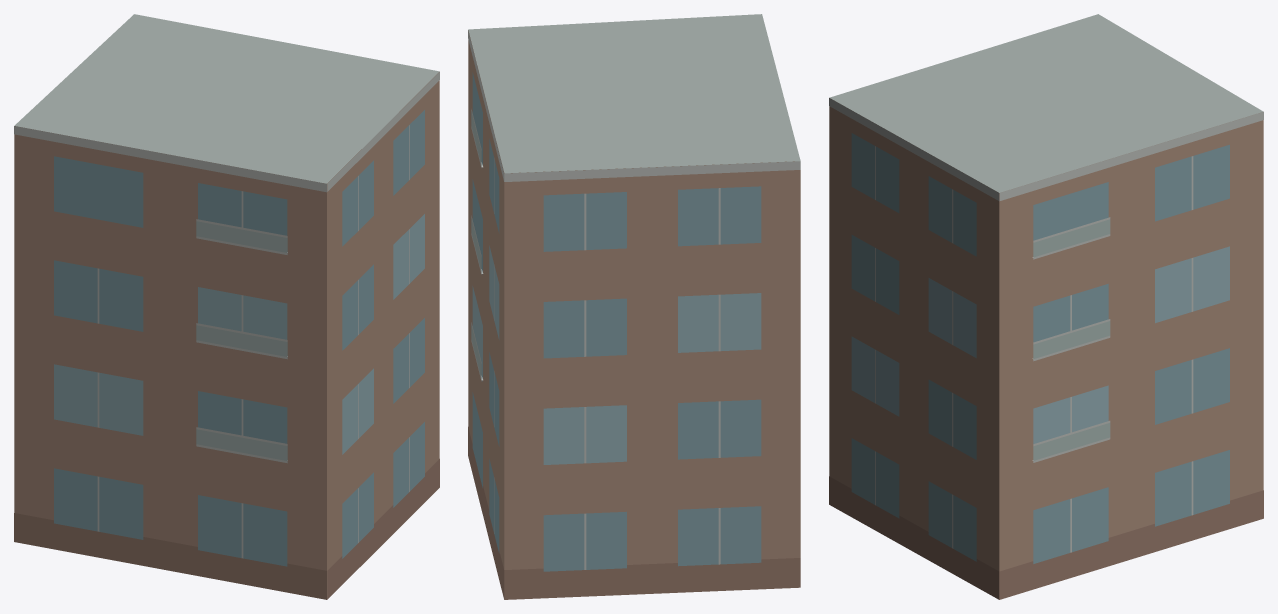
The model's file is survey-upis-32537830.glb.
3 renders of one model, left to right at view 1: azimuth 30°, elevation 25°; view 2: azimuth 150°, elevation 25°; view 3: azimuth 270°, elevation 25°, orthographic. The views are drawn at different scales.
Visible parts, largest first — view 1: survey-upis-32537830.tmp; view 2: survey-upis-32537830.tmp; view 3: survey-upis-32537830.tmp.
Boxes of the visible parts, x1=… form: survey-upis-32537830.tmp: x1=14, y1=14, x2=439, y2=599; survey-upis-32537830.tmp: x1=468, y1=14, x2=800, y2=599; survey-upis-32537830.tmp: x1=829, y1=14, x2=1263, y2=599.
Size of the model in its own units: 11.18 by 11.85 by 11.48.
